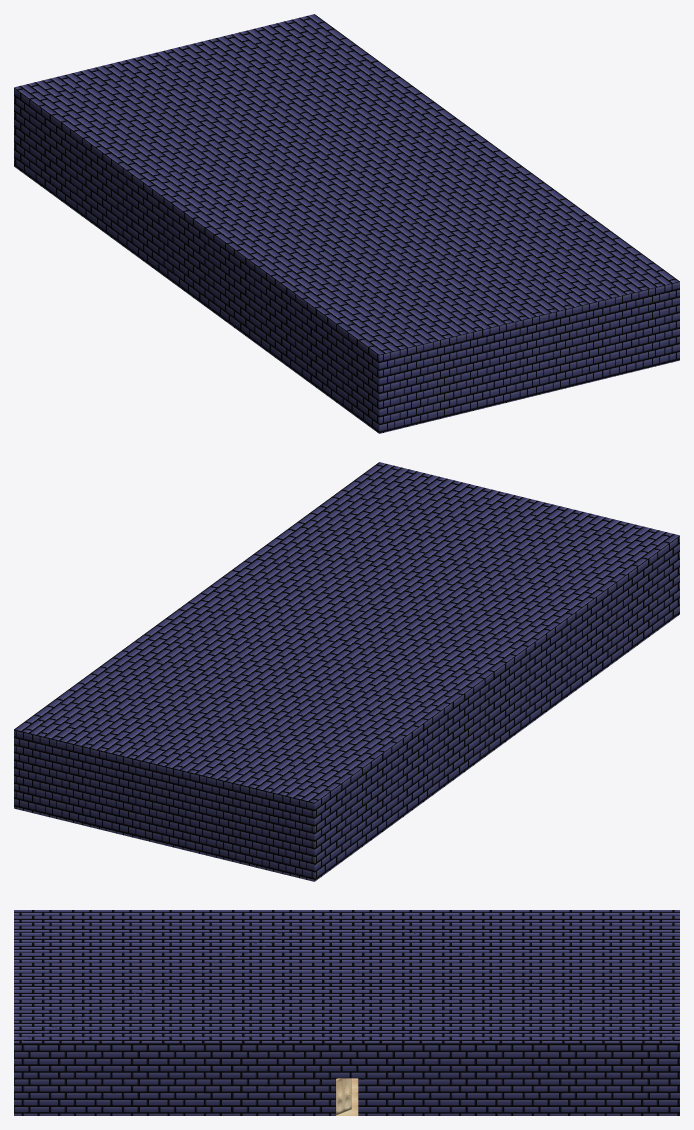
File: House.glb
3 views of the same model, one above another, from view 1: azimuth 30°, elevation 25°; view 2: azimuth 150°, elevation 25°; view 3: azimuth 270°, elevation 25° (orthographic). The views are drawn at different scales.
Parts seen in each view (by area): view 1: Cube.003, Cube.005, Cube.002; view 2: Cube.003, Cube.005, Cube.004; view 3: Cube.003, Cube.001, Door, Cube.
Boxes of the visible parts, bbox=[...] form: Cube.003: bbox=[14, 14, 679, 354]; Cube.005: bbox=[14, 87, 379, 433]; Cube.002: bbox=[379, 281, 679, 433]; Cube.003: bbox=[14, 462, 679, 802]; Cube.005: bbox=[314, 535, 679, 881]; Cube.004: bbox=[14, 729, 314, 881]; Cube.003: bbox=[14, 910, 679, 1043]; Cube.001: bbox=[14, 1043, 679, 1115]; Door: bbox=[335, 1078, 351, 1115]; Cube: bbox=[336, 1078, 358, 1115].
Size of the model in its own units: 32.03 by 8.04 by 67.29.
7 materials, 3 textured.
